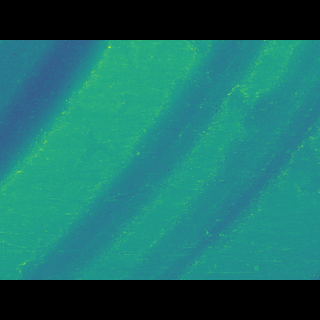Loch: (21, 69, 320, 249), (0, 70, 113, 185)
